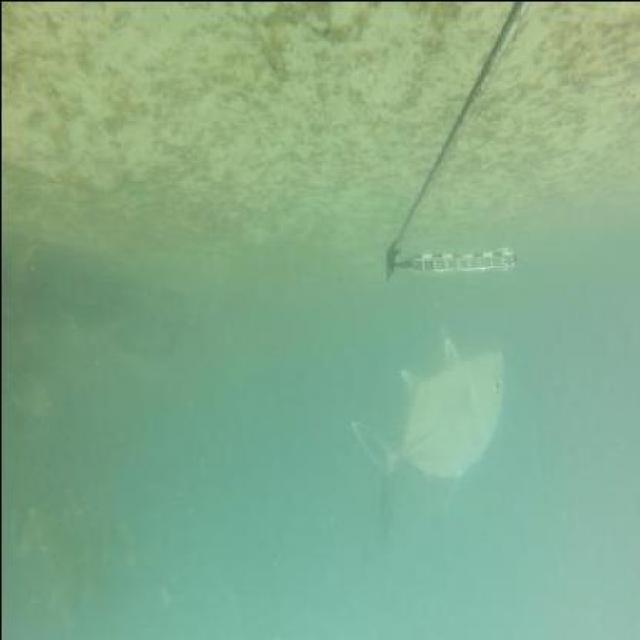Caranx: (346, 328, 505, 550)
